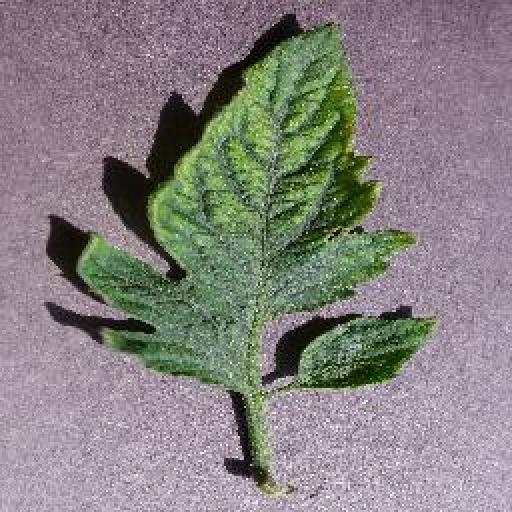Mosaic Virus: (79, 22, 437, 390)
